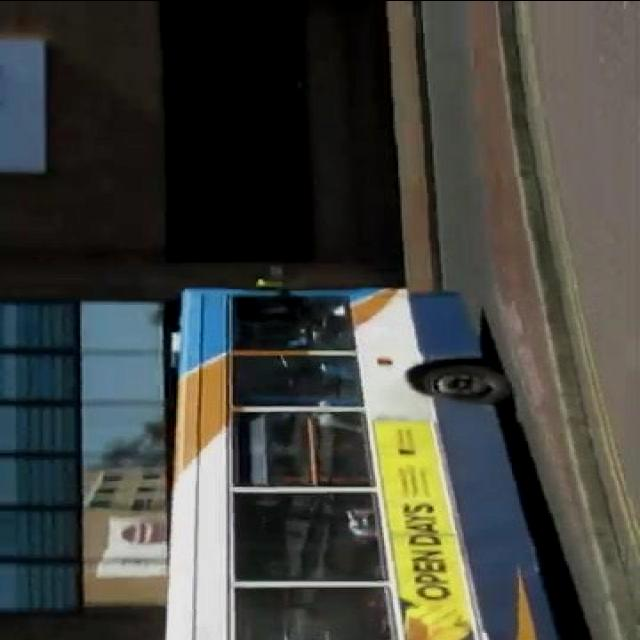bus: (136, 278, 568, 640)
